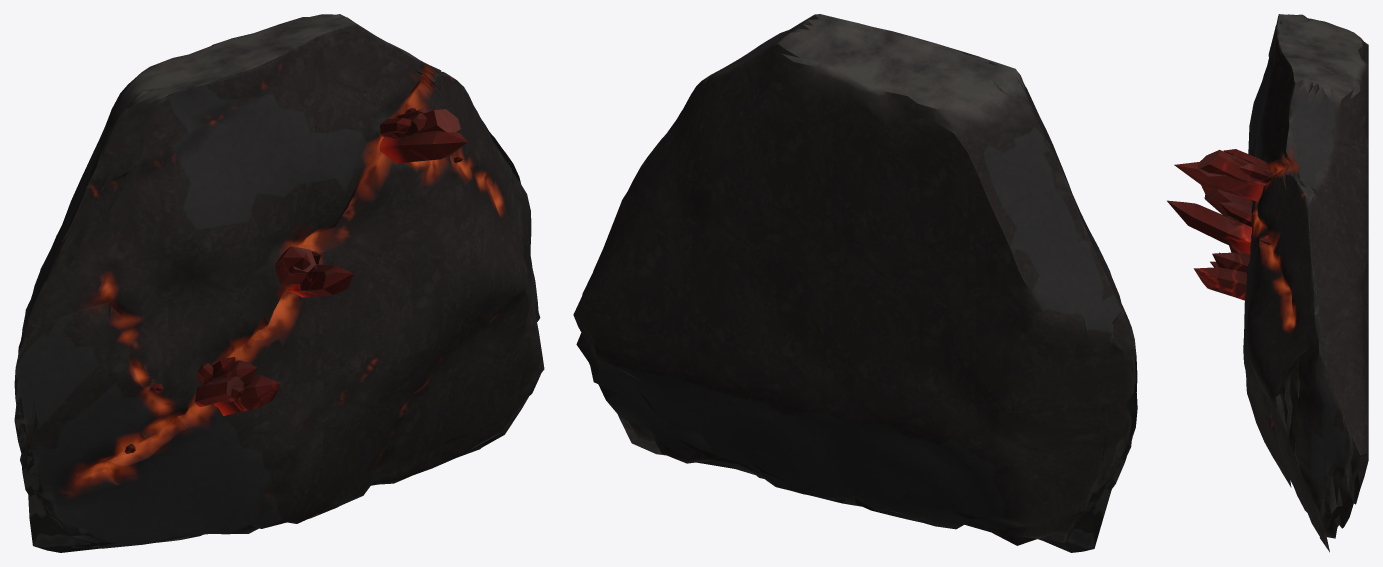
The model's file is b4p_ore_vein_wall.glb.
3 renders of one model, left to right at view 1: azimuth 30°, elevation 25°; view 2: azimuth 150°, elevation 25°; view 3: azimuth 270°, elevation 25°, orthographic. The views are drawn at different scales.
Visible parts, largest first — view 1: b4p_ore_vein_wall; view 2: b4p_ore_vein_wall; view 3: b4p_ore_vein_wall.
Boxes of the visible parts, x1,y1,x2,y2 form: b4p_ore_vein_wall: [14, 14, 544, 552]; b4p_ore_vein_wall: [573, 14, 1137, 552]; b4p_ore_vein_wall: [1167, 14, 1368, 552].
Size of the model in its own units: 2.5 by 2.06 by 0.929.
1 material, 1 textured.
